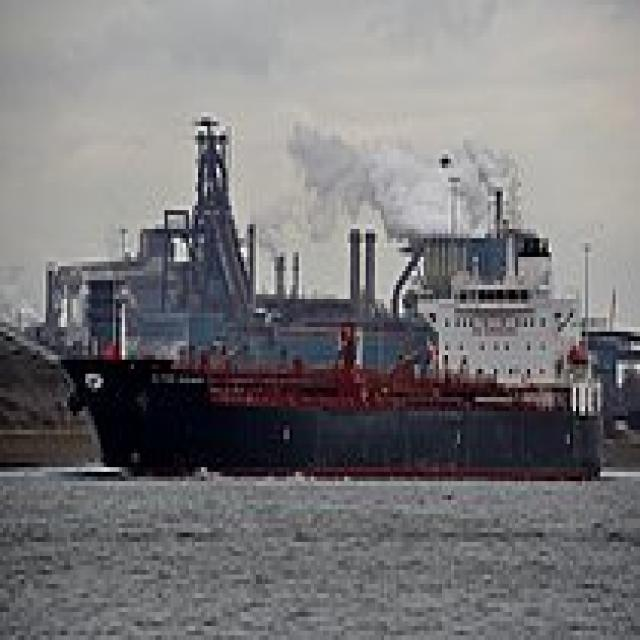Tanker: (49, 266, 606, 476)
